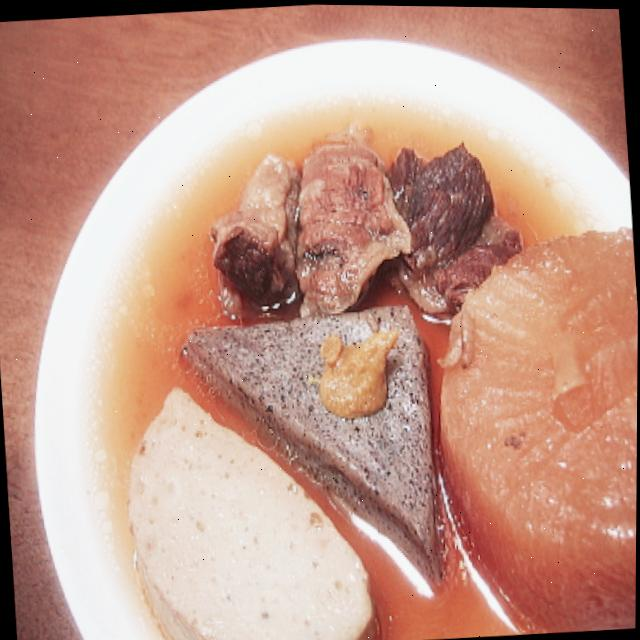汤锅炖物: (99, 105, 639, 640)
